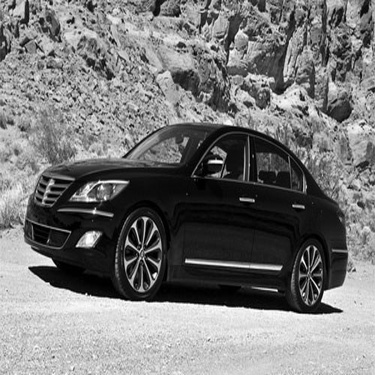car: (31, 119, 356, 312)
